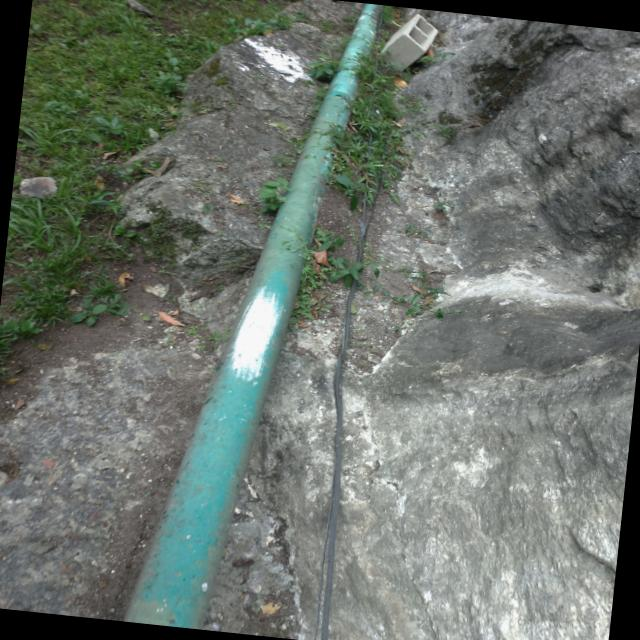gas: (121, 3, 381, 628)
